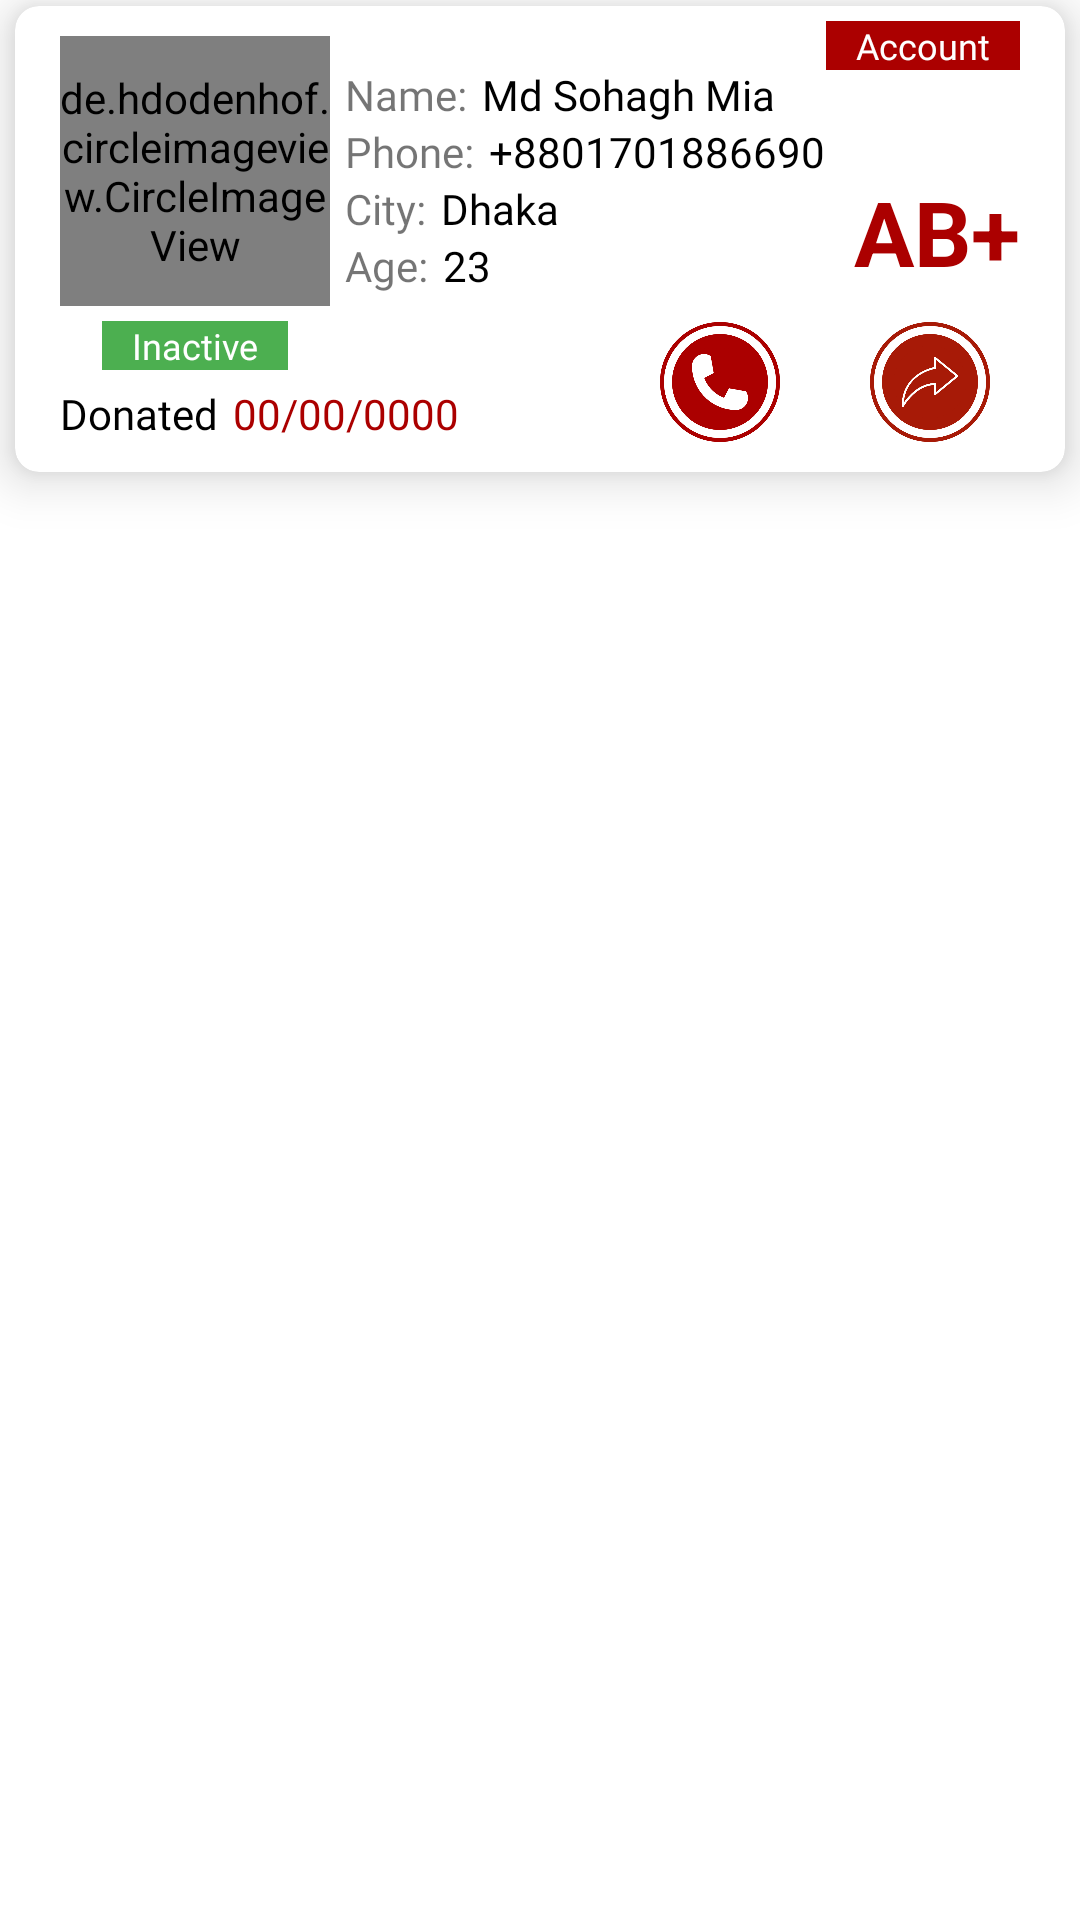

Icon bounding boxes for this 1080 × 1920 phone screenshot, format (x1, y1, x2, y2):
call: (660, 322, 780, 442)
share: (870, 322, 990, 442)
